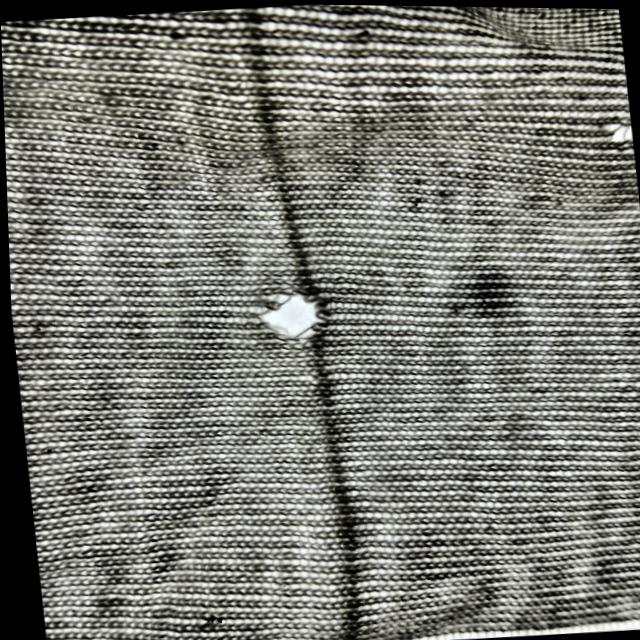Hole: (427, 261, 528, 328), (603, 116, 633, 157)
